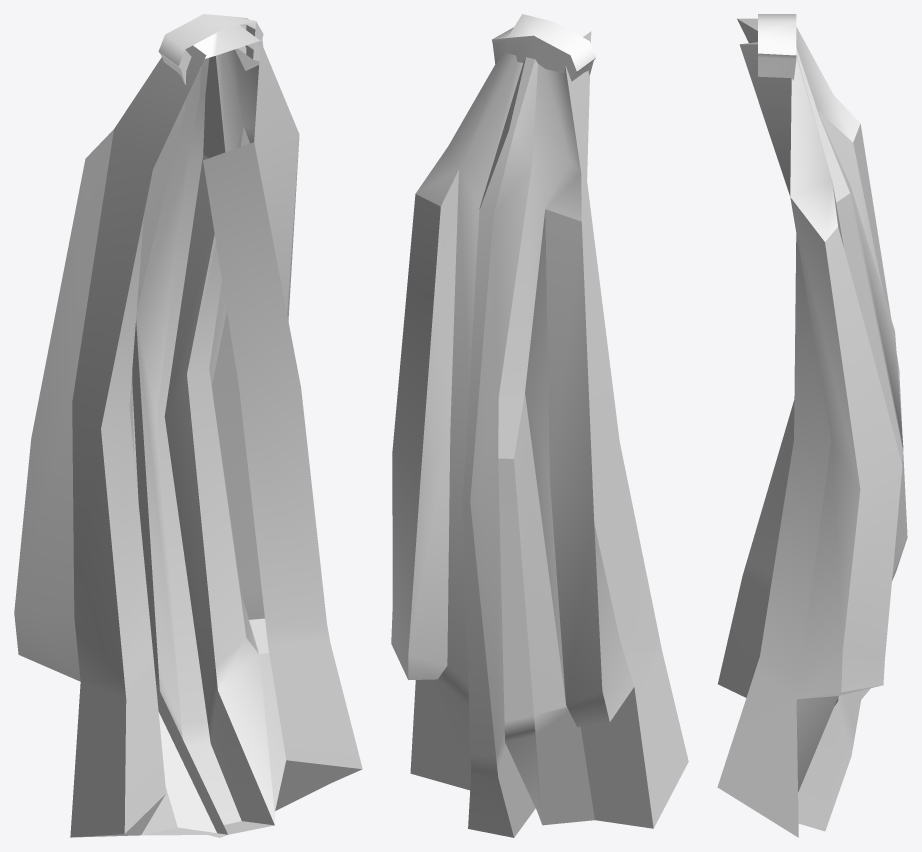
Rendered from coat_glb_export.glb.
3 renders of one model, left to right at view 1: azimuth 30°, elevation 25°; view 2: azimuth 150°, elevation 25°; view 3: azimuth 270°, elevation 25°, orthographic. The views are drawn at different scales.
Visible parts, largest first — view 1: pCube1, pCube2; view 2: pCube1, pCube2; view 3: pCube1, pCube2.
Boxes of the visible parts, x1=… form: pCube1: x1=14, y1=25, x2=362, y2=837; pCube2: x1=158, y1=14, x2=263, y2=84; pCube1: x1=391, y1=31, x2=688, y2=837; pCube2: x1=492, y1=14, x2=596, y2=81; pCube1: x1=717, y1=18, x2=907, y2=837; pCube2: x1=758, y1=14, x2=796, y2=80.
Size of the model in its own units: 7.34 by 22.42 by 4.92.
Materials: 1 (1 with a texture image).
